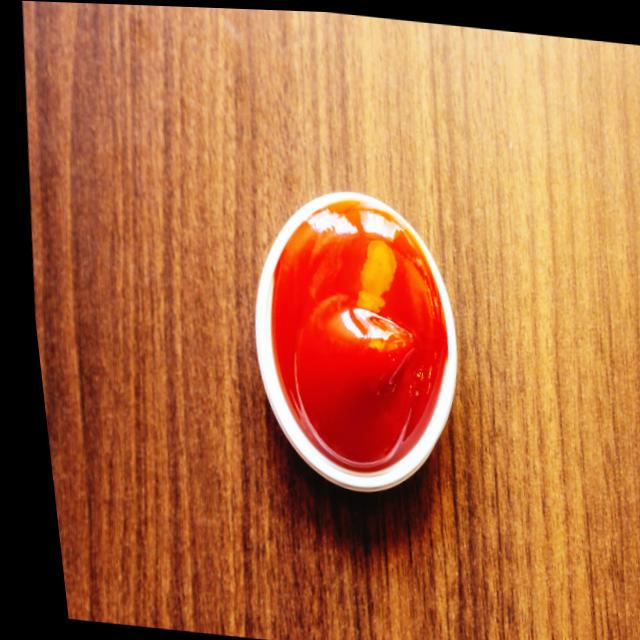ketchup: (235, 182, 491, 504)
